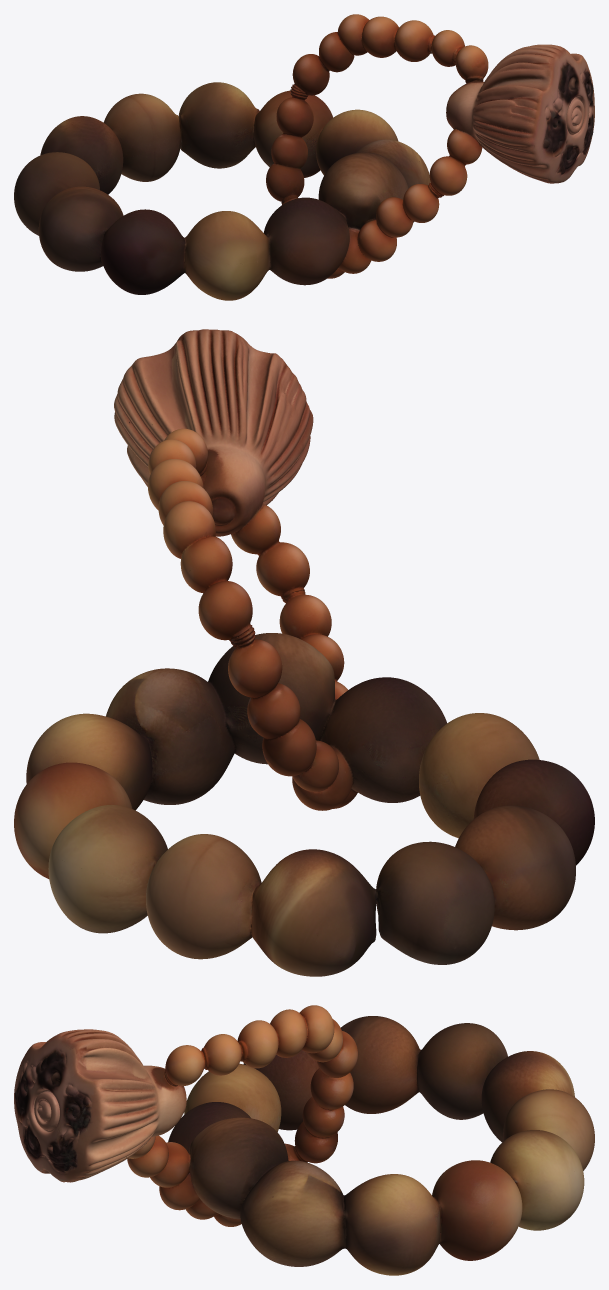
Rendered from wood_sandal.glb.
3 views of the same model, one above another, from view 1: azimuth 30°, elevation 25°; view 2: azimuth 150°, elevation 25°; view 3: azimuth 270°, elevation 25° (orthographic). The views are drawn at different scales.
Visible parts, largest first — view 1: Mesh_0.001; view 2: Mesh_0.001; view 3: Mesh_0.001.
Boxes of the visible parts, left/top/right/bottom form: Mesh_0.001: left=14, top=14, right=594, bottom=300; Mesh_0.001: left=14, top=329, right=594, bottom=976; Mesh_0.001: left=14, top=1005, right=594, bottom=1275.
Size of the model in its own units: 0.0686 by 0.0366 by 0.07.
Materials: 1 (1 with a texture image).
